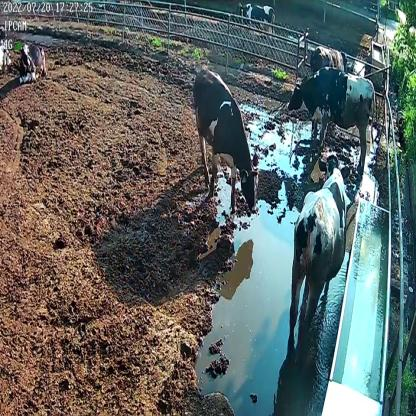cow: (287, 146, 348, 337), (190, 68, 260, 218), (285, 64, 376, 178), (18, 39, 48, 85), (309, 44, 350, 70)
